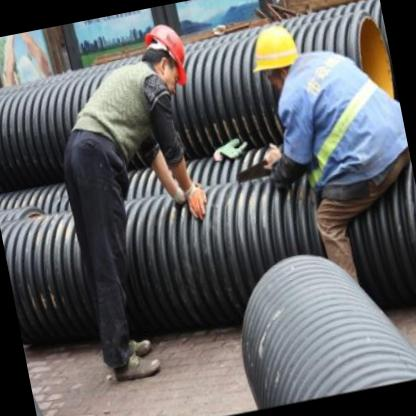helmet: (242, 18, 313, 106), (131, 18, 197, 98)
